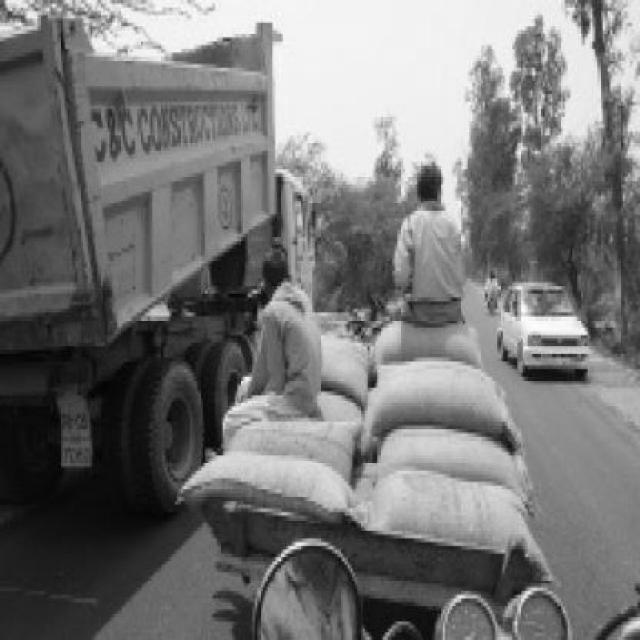Truck- Multi-Axle: (0, 17, 316, 518)
